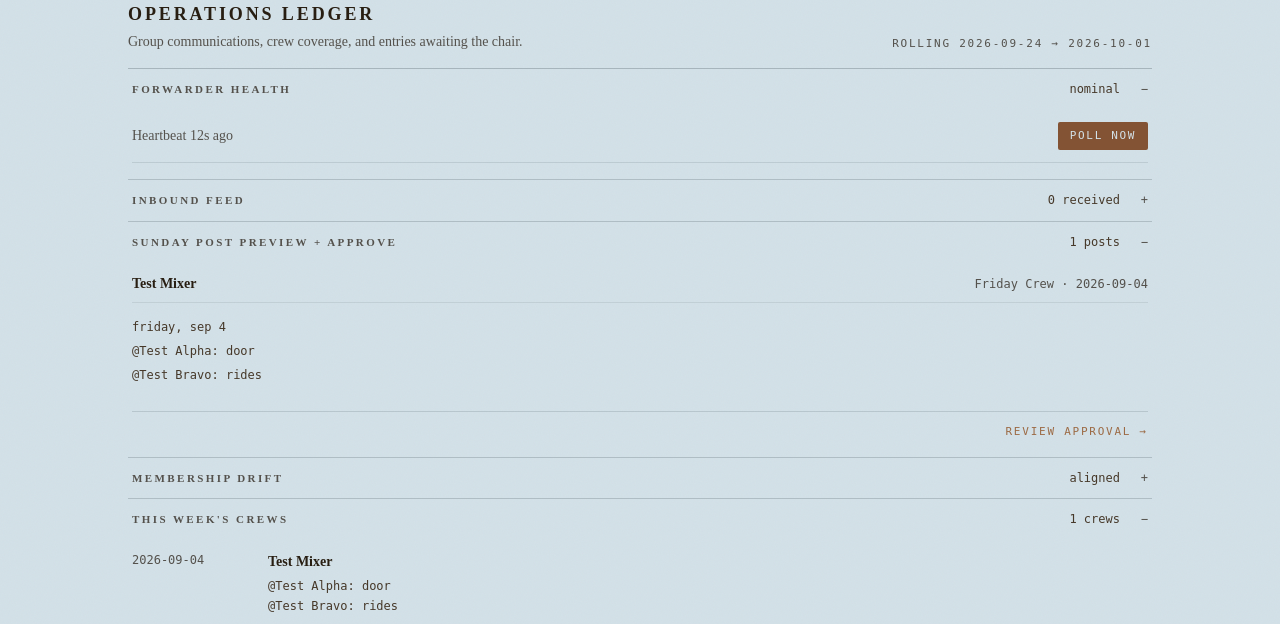
Test: Ops — a refused approval › says the schedule moved and forces a re-preview on drift
Click the button "Review approval →" at [1077, 432], box left=1006, top=424, right=1148, bottom=440
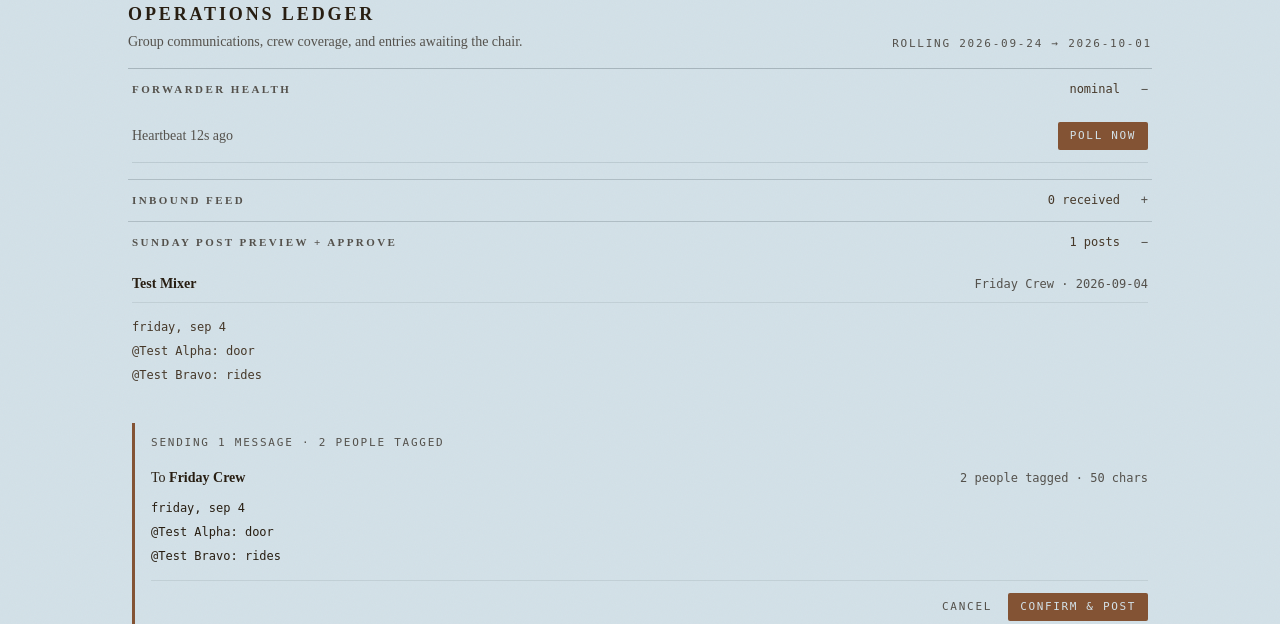
Click the button "Confirm & post" at [1078, 607], box left=1008, top=592, right=1148, bottom=621
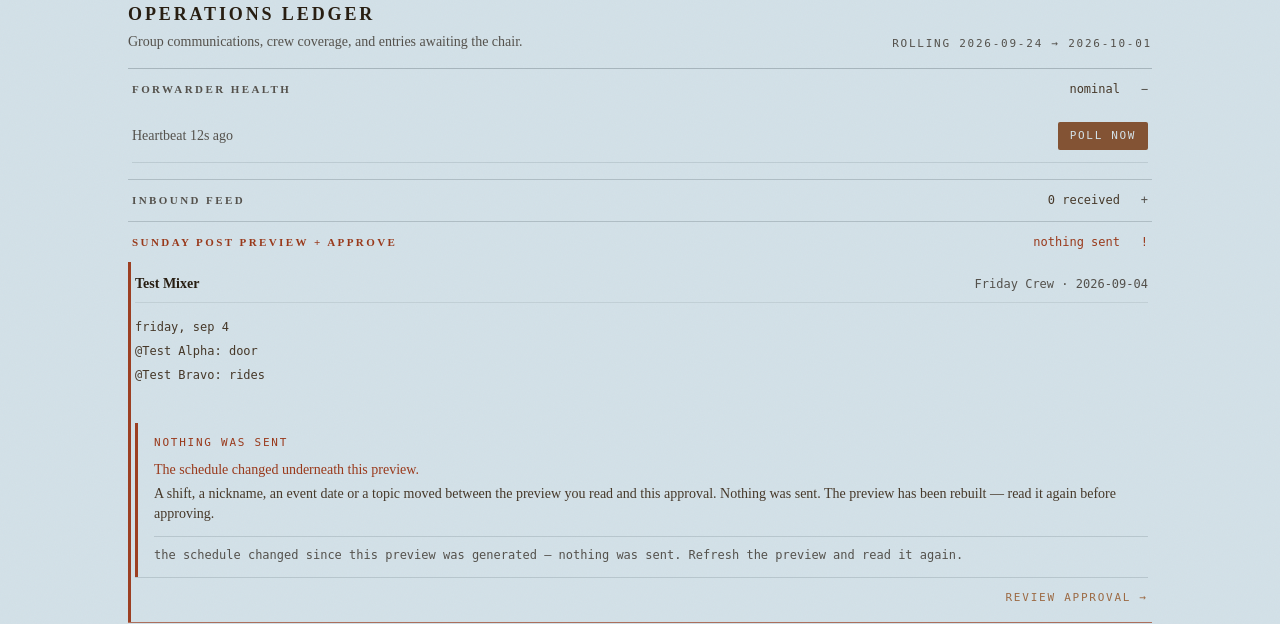
Check: the message is shown, box left=135, top=423, right=1148, bottom=576
Check: the message shows "The schedule changed underneath this preview.", box left=154, top=462, right=419, bottom=476
Check: the message shows "read it again before approving", box left=154, top=486, right=1116, bottom=520
